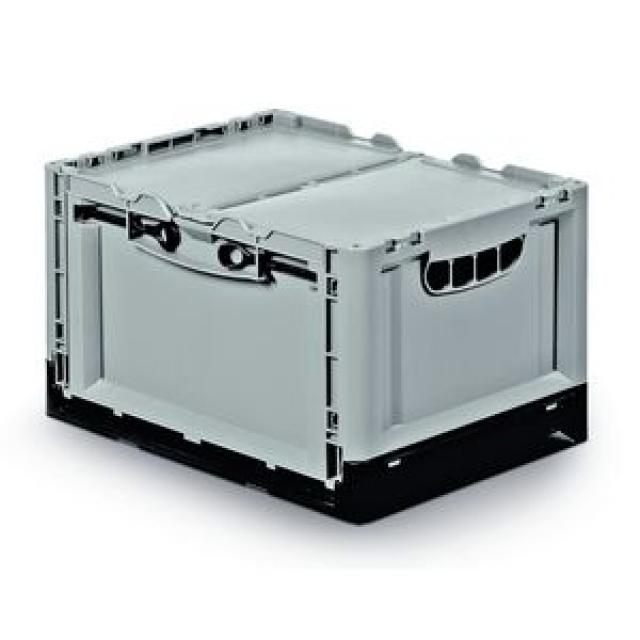basket: (45, 109, 589, 526), (47, 111, 589, 524)
